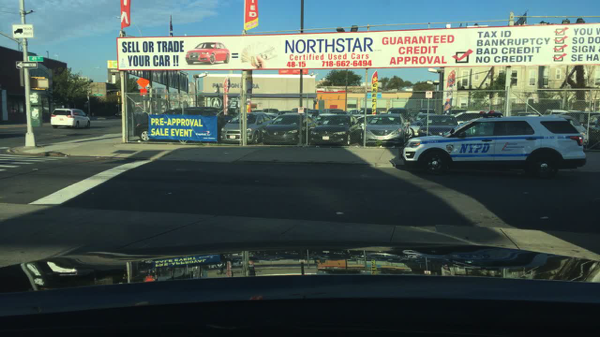car: (402, 115, 586, 179), (136, 106, 228, 143), (260, 113, 315, 146), (308, 114, 363, 146), (221, 113, 271, 144), (363, 113, 406, 147), (49, 106, 90, 130), (417, 115, 456, 138), (454, 111, 499, 126), (563, 112, 595, 126), (585, 115, 598, 148), (385, 108, 411, 121), (355, 116, 375, 131), (415, 108, 439, 120), (351, 108, 375, 118), (510, 108, 539, 116), (449, 106, 465, 118), (315, 113, 332, 124), (544, 108, 567, 116), (293, 107, 318, 114), (292, 106, 310, 113), (273, 110, 293, 116), (348, 114, 363, 121), (251, 109, 266, 116), (264, 108, 280, 113), (333, 110, 352, 114), (328, 107, 339, 113)
traffic light: (36, 78, 48, 89), (116, 90, 122, 96)
traffic sign: (12, 25, 34, 37), (15, 62, 37, 70), (136, 78, 150, 87), (21, 70, 26, 88), (140, 89, 148, 96), (296, 108, 303, 115), (30, 57, 44, 60), (93, 93, 103, 97)
